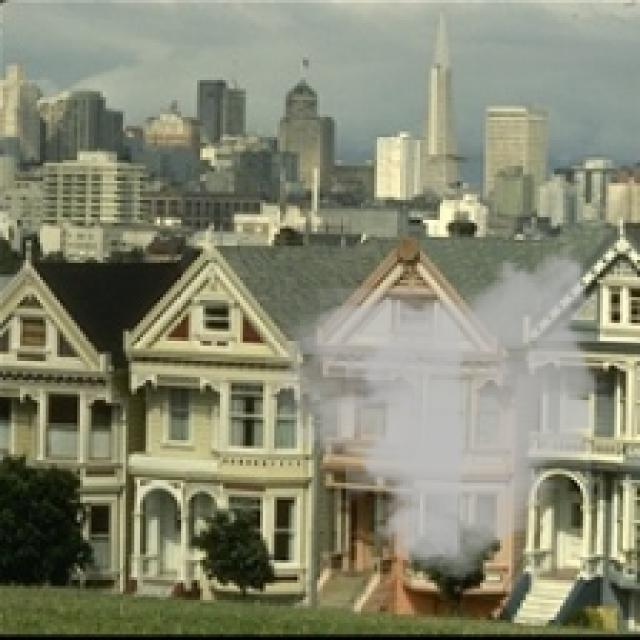Smoke: (266, 234, 612, 592)
